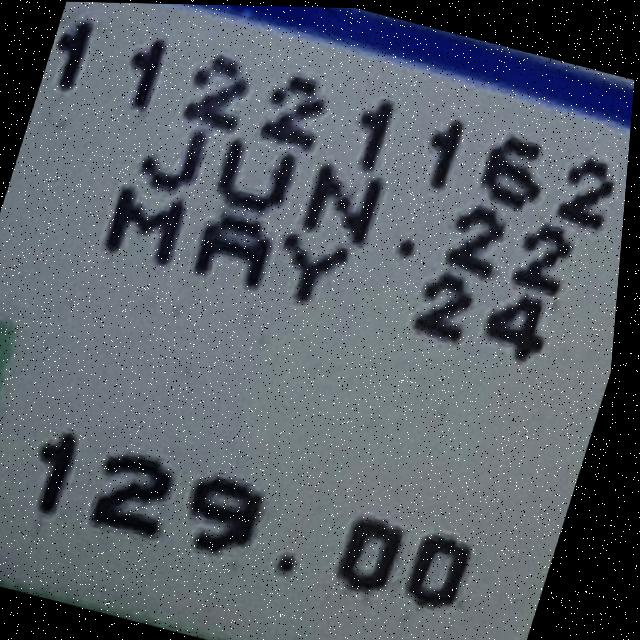sentence: (52, 14, 622, 229), (108, 186, 553, 359), (46, 431, 479, 605), (143, 127, 576, 293)
